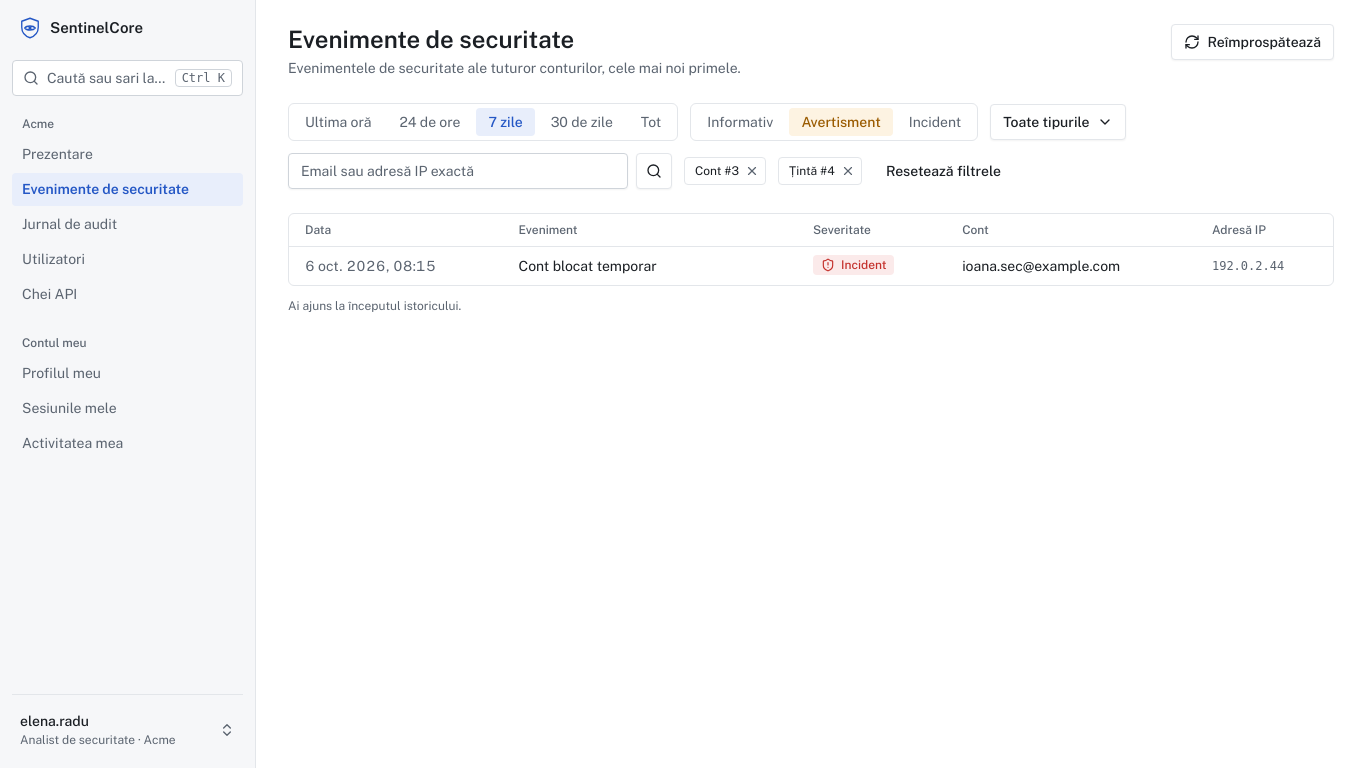
Test: organization security events page › removes a filter chip and resets every filter
The image size is (1366, 768).
Click the button named "Elimină filtrul Cont #3". click: x=752, y=171
box: [743,162,761,180]
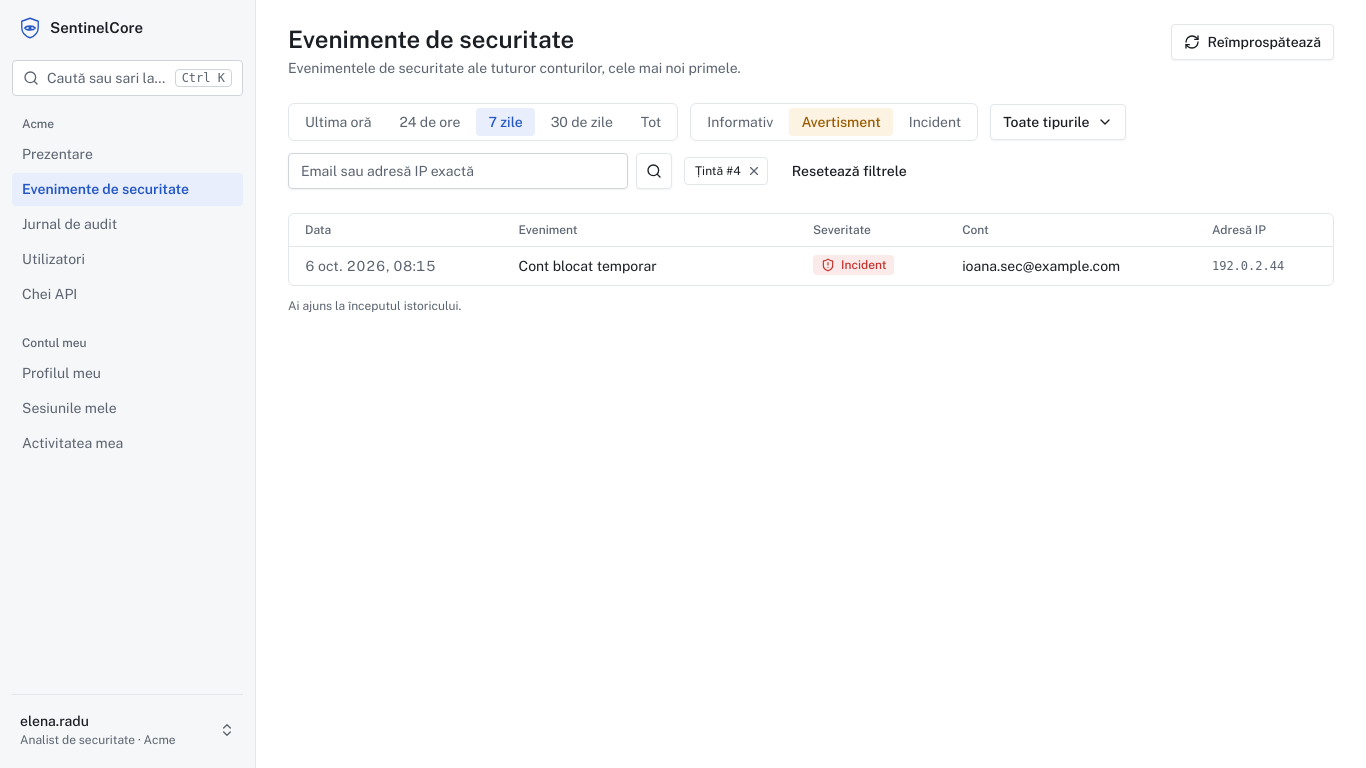
Click the button "Resetează filtrele". click: x=849, y=171
box: [780,155,919,187]
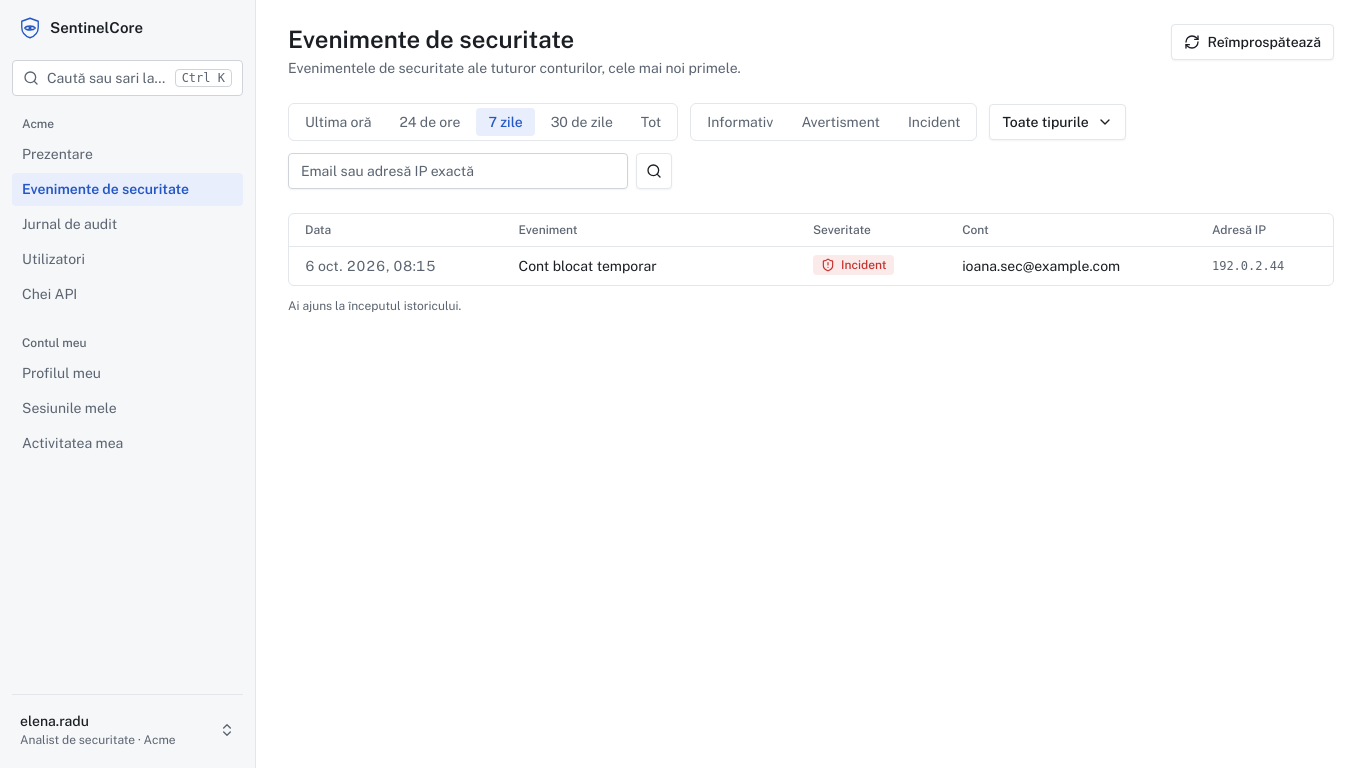
Result: the button "Resetează filtrele" is gone
